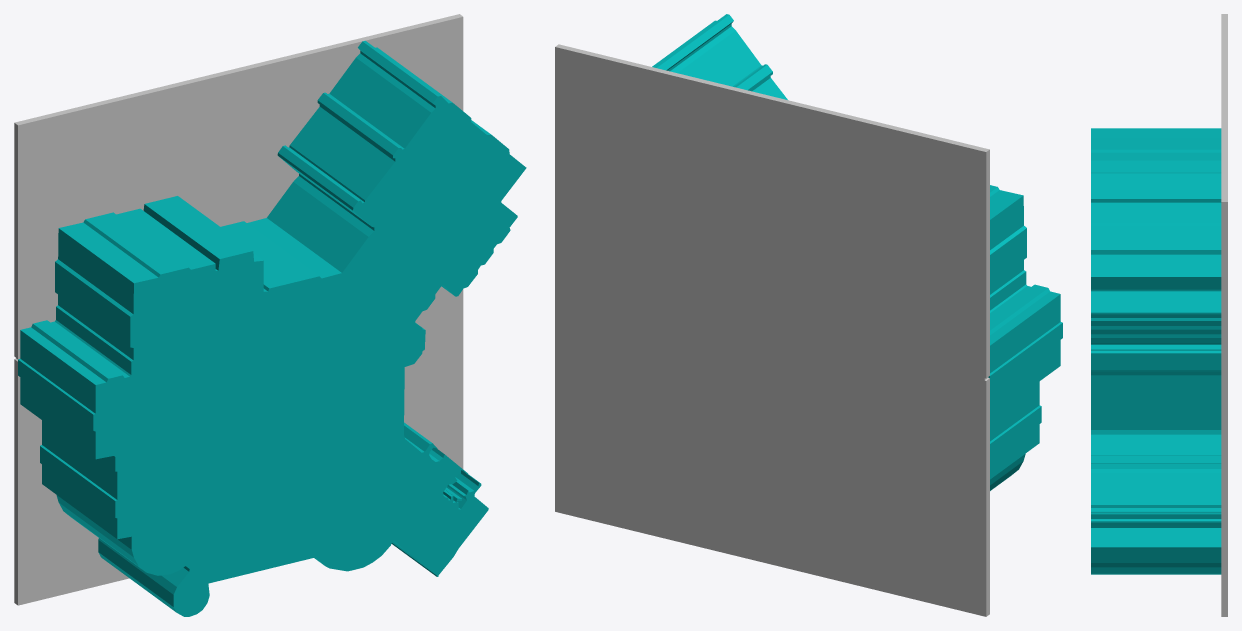
3 views of the same model, side by side, from view 1: azimuth 30°, elevation 25°; view 2: azimuth 150°, elevation 25°; view 3: azimuth 270°, elevation 25° (orthographic). The views are drawn at different scales.
Parts seen in each view (by area): view 1: world; view 2: world; view 3: world.
Part boxes in pixels (left/top/right/bottom): world: left=14, top=14, right=526, bottom=616; world: left=555, top=14, right=1062, bottom=616; world: left=1091, top=14, right=1227, bottom=616.
Bounding box in the file's own units: 10.23 × 10.54 × 3.15.
